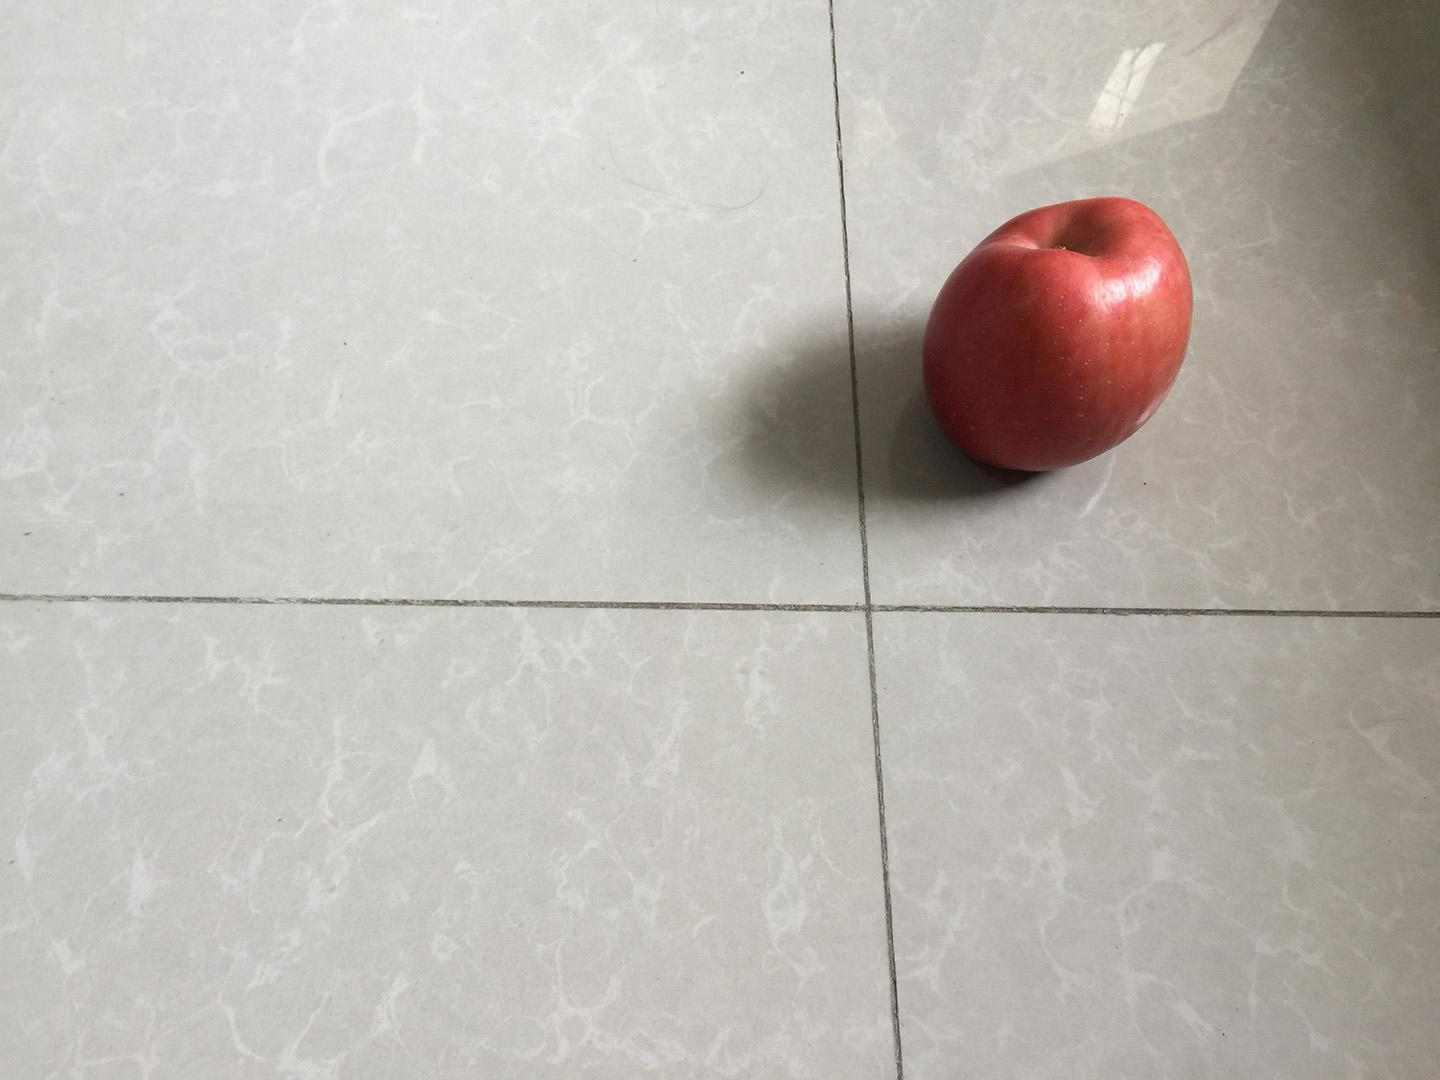apple: (915, 193, 1202, 481)
